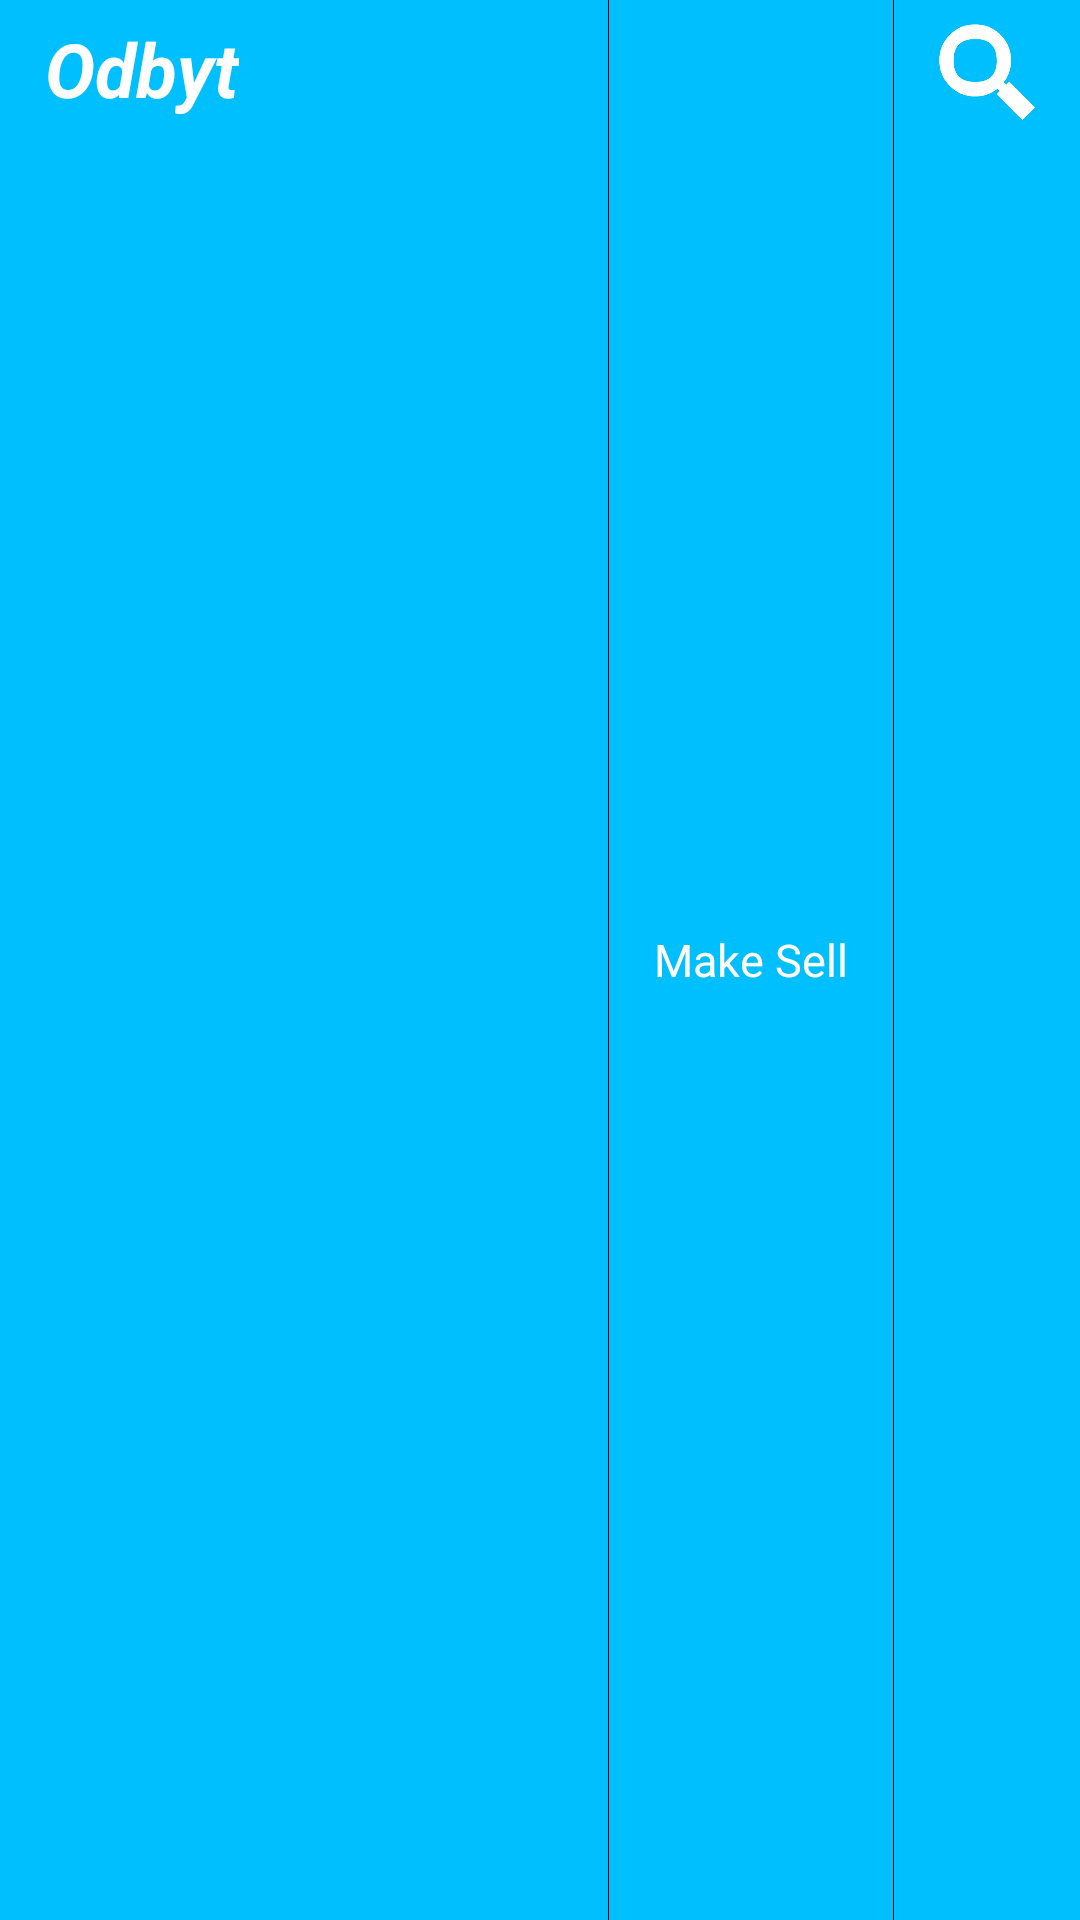

Where icons sit on this 1080px x 1920px app screen, as (x1, y1, x2, y2):
search: (939, 24, 1035, 120)
